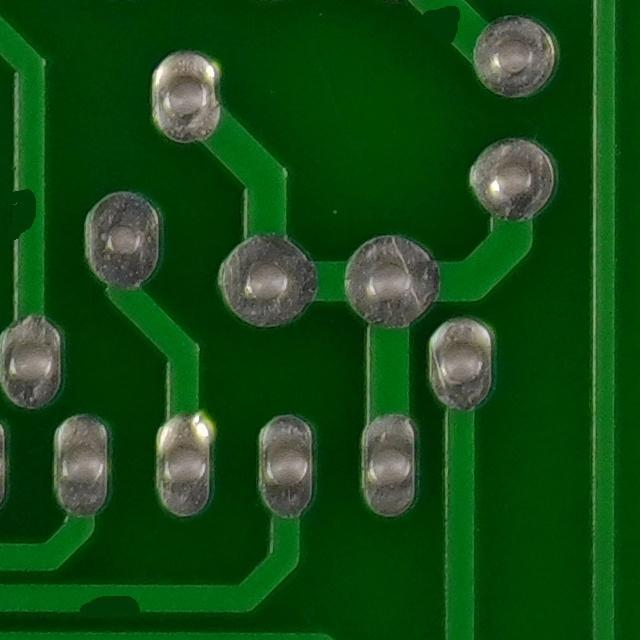mouse_bite: (59, 573, 160, 633), (408, 0, 485, 59), (0, 179, 59, 256)
